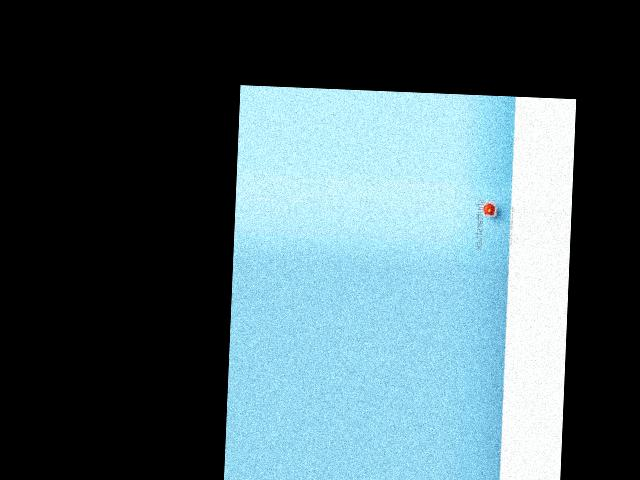tomato: (483, 204, 495, 215)
